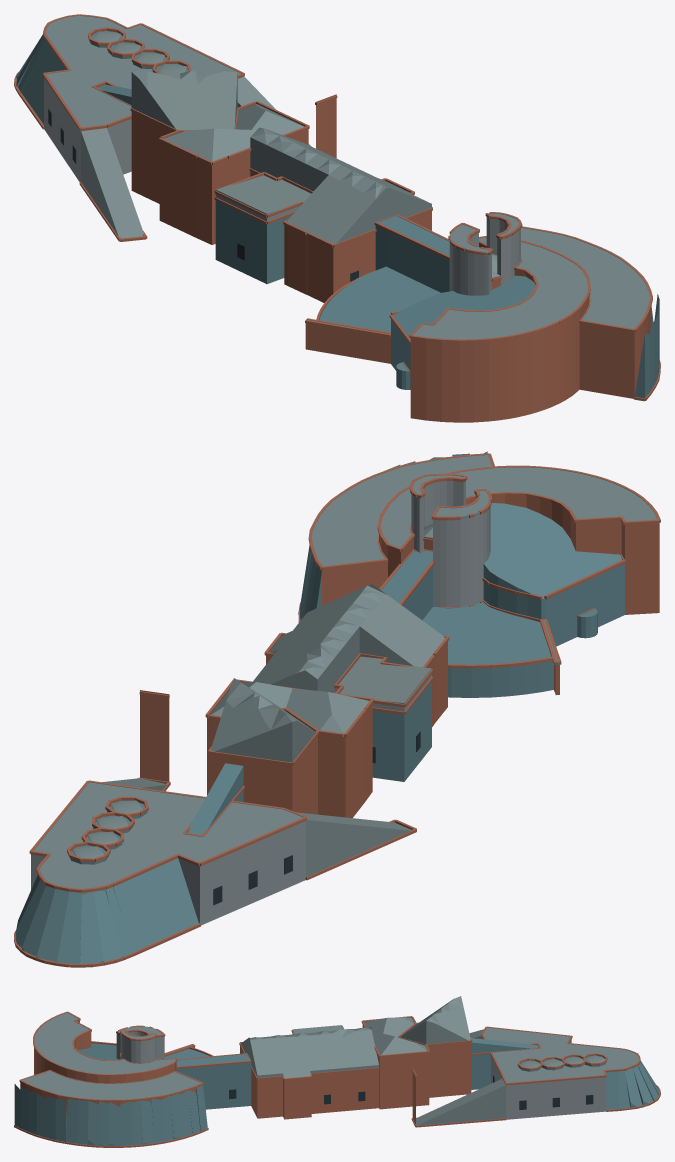
The model's file is chocolate-museum.glb.
The picture shows the model from 3 angles, top to bottom: view 1: azimuth 30°, elevation 25°; view 2: azimuth 150°, elevation 25°; view 3: azimuth 270°, elevation 25°; orthographic projection. The views are drawn at different scales.
Visible parts, largest first — view 1: mapped-roof (×2), mapped-part (×3), cornice, primary-envelope; view 2: mapped-roof (×2), mapped-part (×3), cornice, primary-envelope; view 3: mapped-roof (×2), mapped-part (×3), cornice, window-rhythm.
Part boxes in pixels (x1,y1,x2,y2): mapped-roof (×2): [16, 15, 659, 398]; mapped-part (×3): [44, 31, 651, 422]; cornice: [14, 14, 660, 401]; primary-envelope: [316, 94, 500, 289]; mapped-roof (×2): [15, 451, 657, 964]; mapped-part (×3): [31, 481, 659, 925]; cornice: [14, 453, 660, 967]; primary-envelope: [140, 536, 432, 781]; mapped-roof (×2): [14, 996, 659, 1145]; mapped-part (×3): [20, 1020, 638, 1119]; cornice: [14, 1011, 660, 1147]; window-rhythm: [229, 1075, 593, 1109].
Size of the model in its own units: 5.52 by 2.14 by 16.
